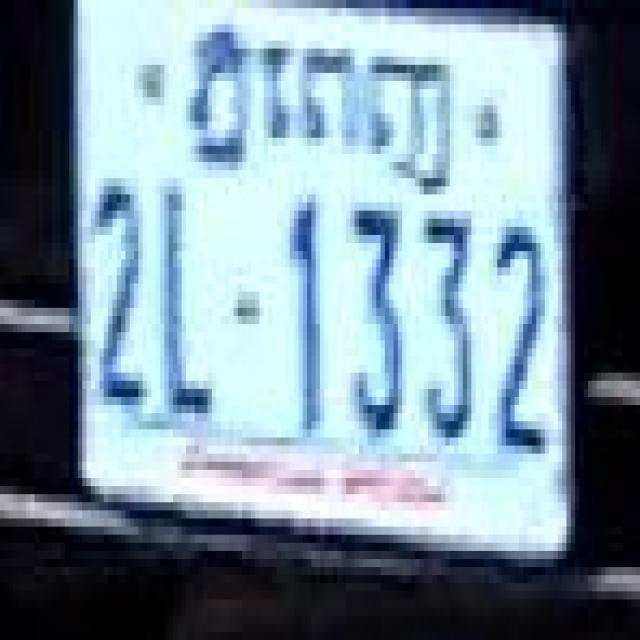Phnom_Penh: (190, 16, 453, 185)
